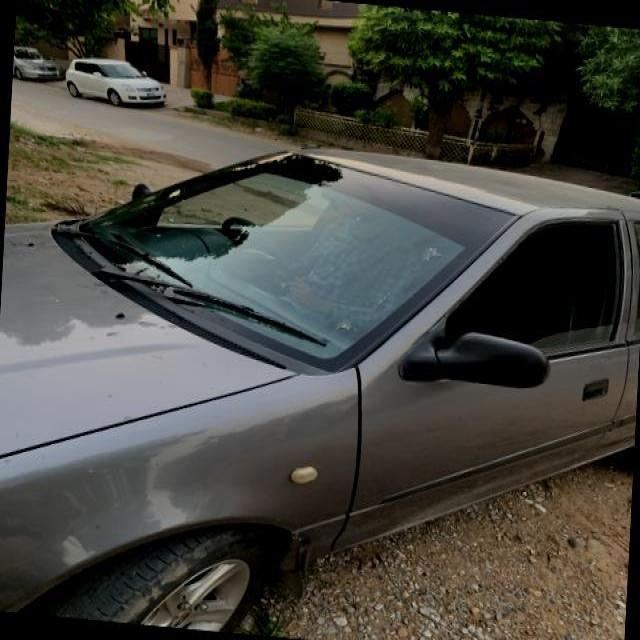no-seatbelt: (301, 206, 419, 329)
